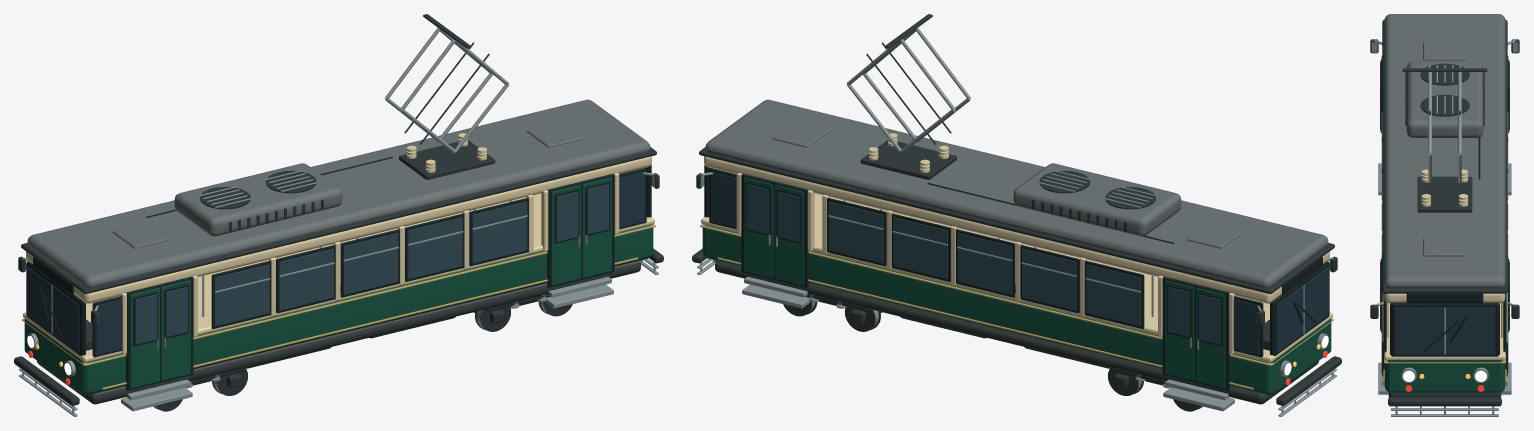
File: tram.glb
The picture shows the model from 3 angles, left to right: view 1: azimuth 30°, elevation 25°; view 2: azimuth 150°, elevation 25°; view 3: azimuth 270°, elevation 25°; orthographic projection. The views are drawn at different scales.
Parts seen in each view (by area): view 1: body, bogieFront, bogieBack; view 2: body, bogieFront, bogieBack; view 3: body.
Part boxes in pixels (box(x1,y1,x2,y2)): body: box(14, 14, 663, 416); bogieFront: box(474, 294, 572, 331); bogieBack: box(153, 368, 247, 411); body: box(692, 14, 1341, 416); bogieFront: box(783, 294, 881, 331); bogieBack: box(1108, 368, 1202, 411); body: box(1370, 14, 1519, 416).
Bounding box in the file's own units: 12.9 × 6.02 × 2.9.
